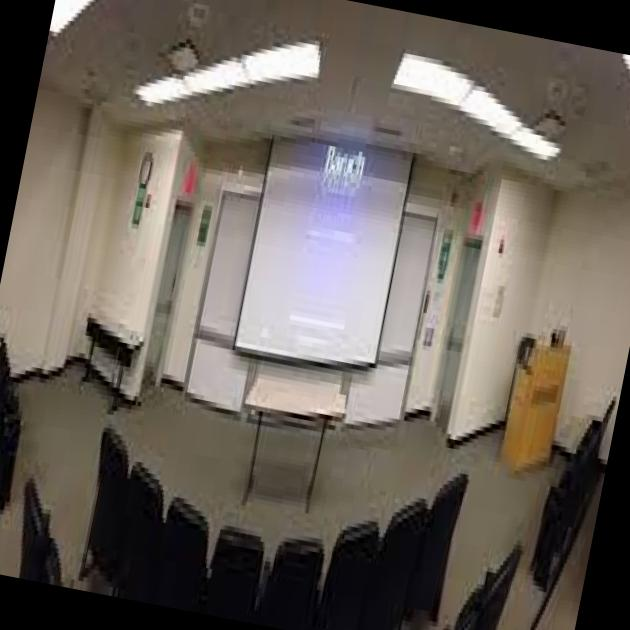projector: (213, 93, 439, 420)
